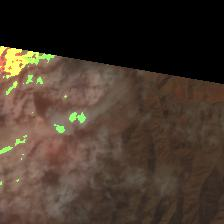landslides: (56, 209, 73, 224)
